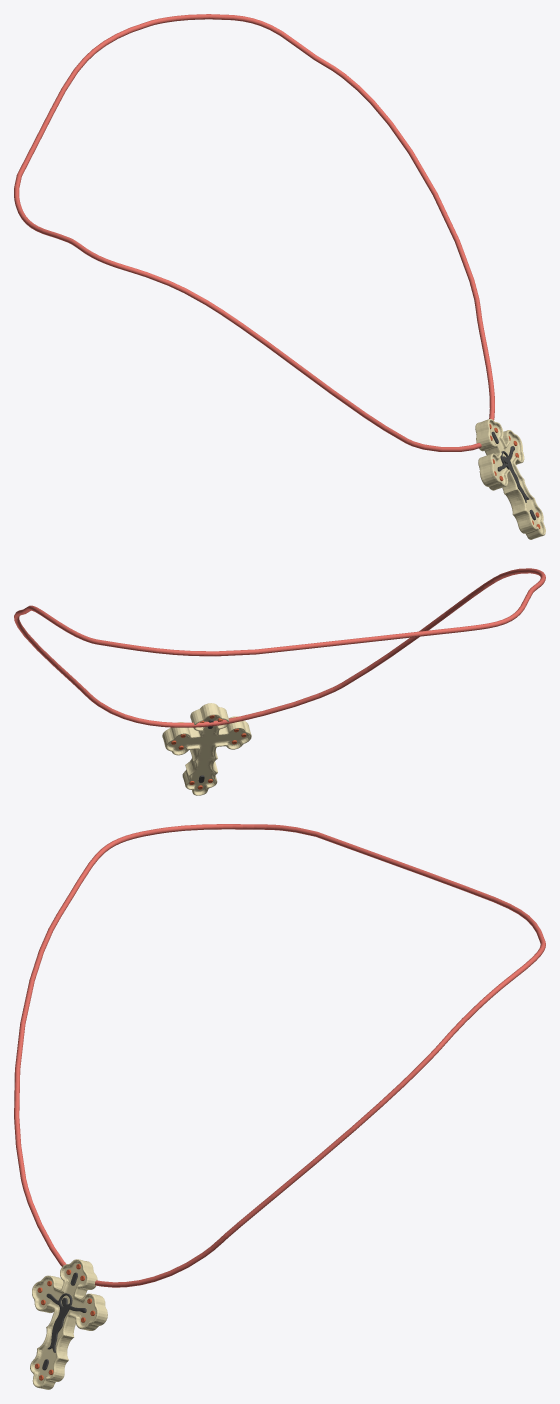
The model's file is COSSACK_CROSS_4#10.glb.
3 renders of one model, top to bottom at view 1: azimuth 30°, elevation 25°; view 2: azimuth 150°, elevation 25°; view 3: azimuth 270°, elevation 25°, orthographic. The views are drawn at different scales.
Parts seen in each view (by area): view 1: krest1-FABRIC 5_FRONT_1370352, krest1-metal5; view 2: krest1-FABRIC 5_FRONT_1370352, krest1-metal5; view 3: krest1-FABRIC 5_FRONT_1370352, krest1-metal5.
Part boxes in pixels (left/top/right/bottom): krest1-FABRIC 5_FRONT_1370352: left=14, top=14, right=494, bottom=451; krest1-metal5: left=475, top=419, right=545, bottom=539; krest1-FABRIC 5_FRONT_1370352: left=14, top=568, right=545, bottom=727; krest1-metal5: left=162, top=703, right=251, bottom=795; krest1-FABRIC 5_FRONT_1370352: left=14, top=824, right=545, bottom=1287; krest1-metal5: left=30, top=1259, right=107, bottom=1389.
Bounding box in the file's own units: 1.99 × 1.56 × 1.98.
